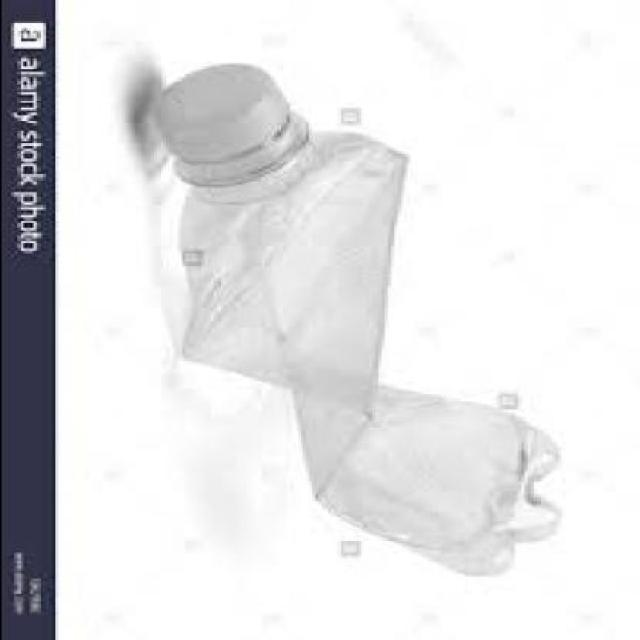PLASTIC: (165, 64, 568, 573), (155, 64, 311, 184)
